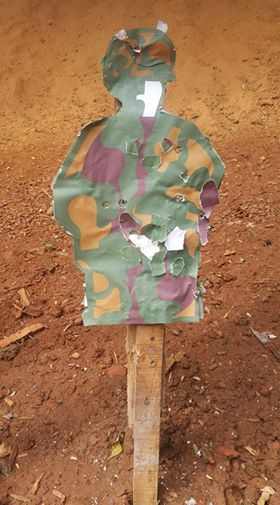Bullet: (175, 193, 186, 203), (118, 199, 128, 208), (102, 201, 111, 209), (174, 146, 183, 154), (198, 211, 205, 219), (134, 44, 141, 51)
